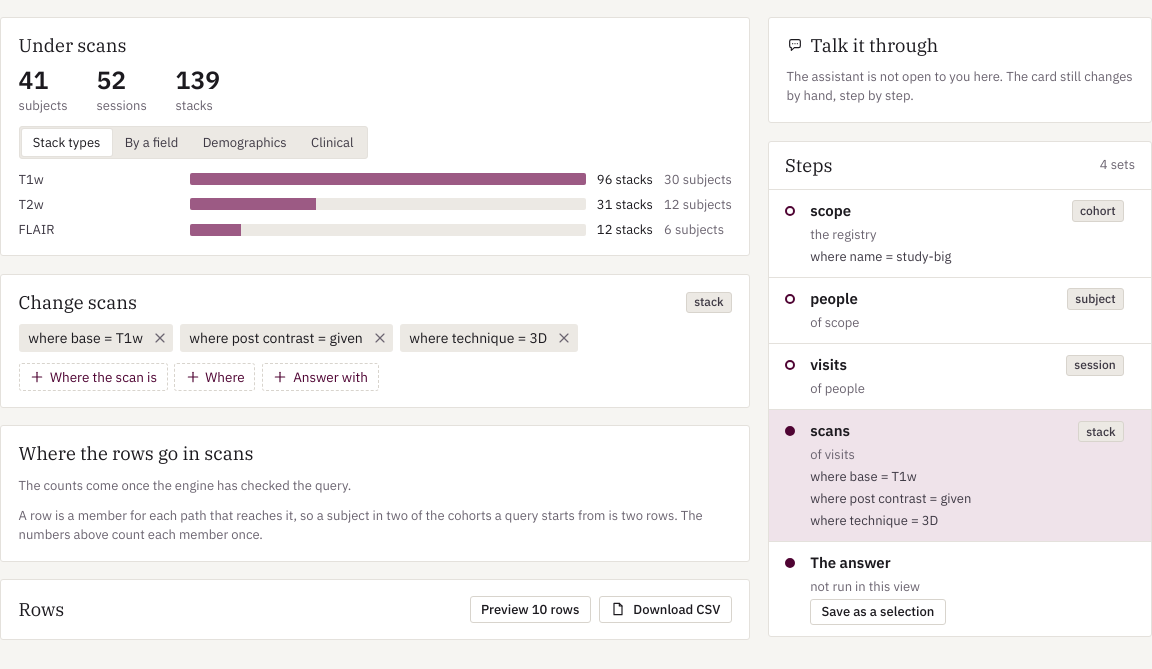
Download CSV on the Query page card › says why when the engine will not export the answer, and saves nothing
Step 1. Click the button "Download CSV" → (665, 609), box [599,596,732,622]
(page scrolled)
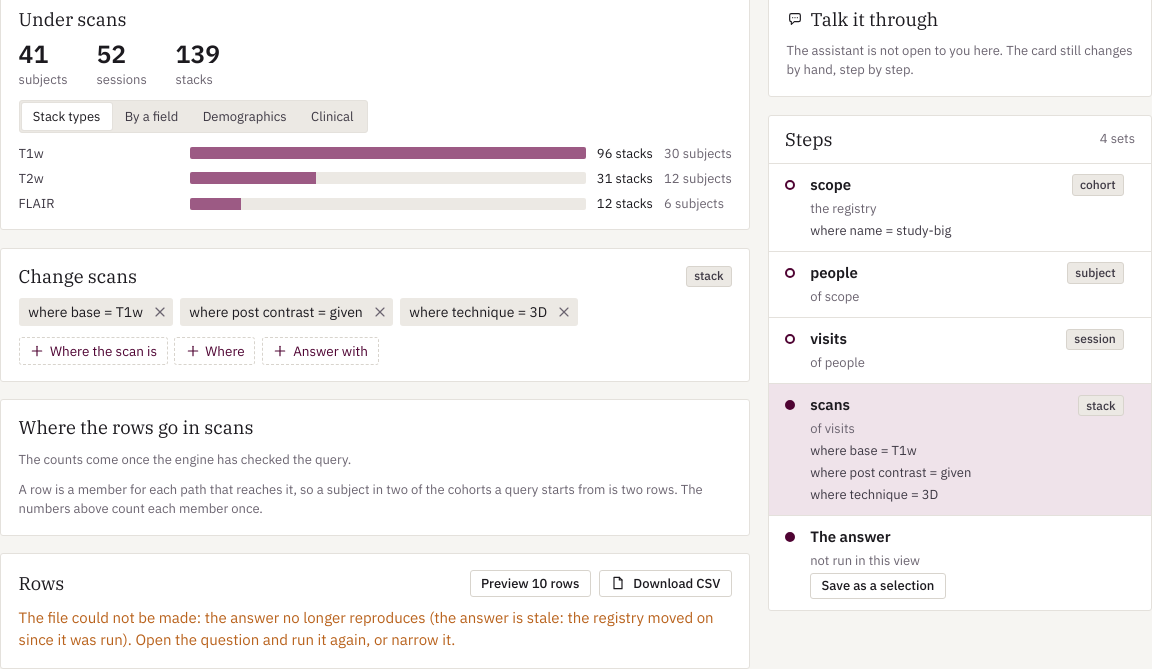
expect the text with class "warn" shows "The file could not be made: the answer no longer reproduces (the answer is stale: the registry moved on since it was run). Open the question and run it again, o": met, box [19,608,714,649]
